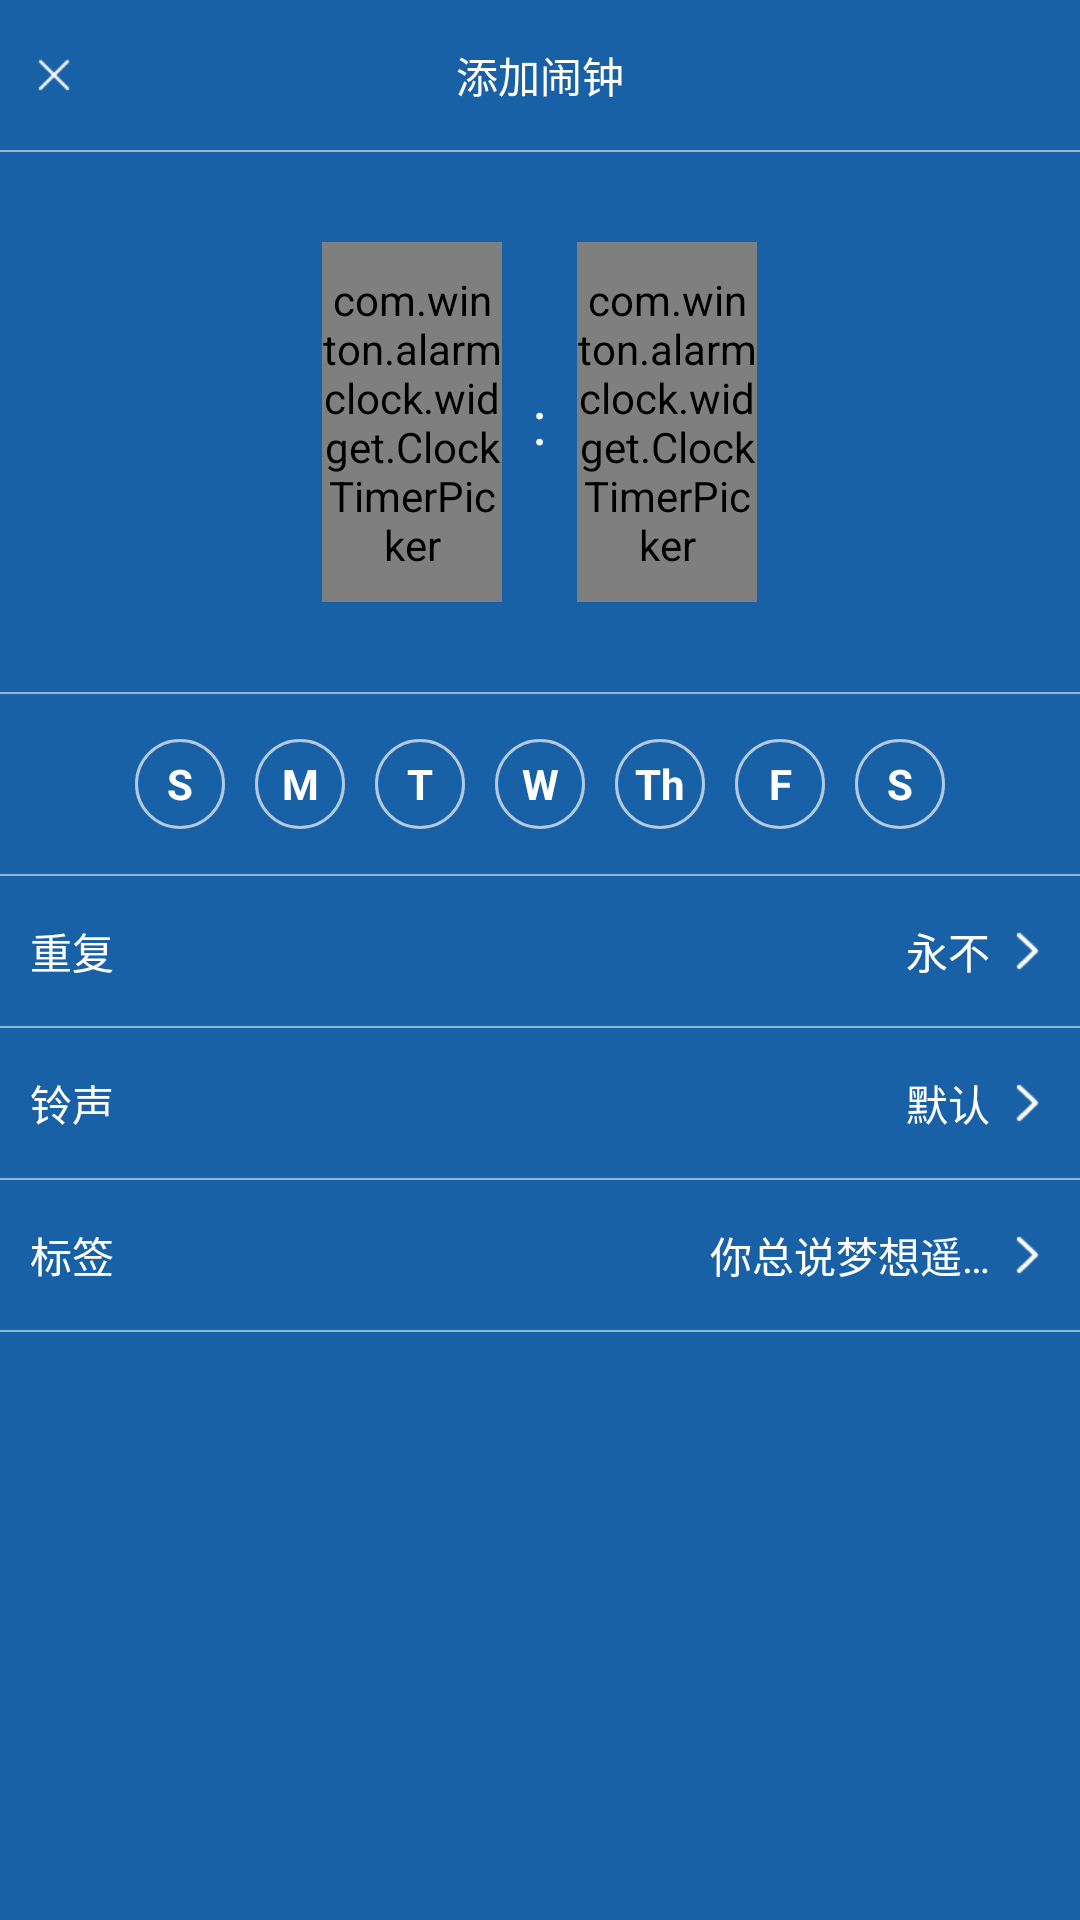

Named icons in this screenshot (1080*1920) and their bounding boxes, (x1, y1, x2, y2):
cancel: (38, 59, 70, 91)
right: (1016, 932, 1039, 970), (1016, 1084, 1039, 1122), (1016, 1236, 1039, 1274)
